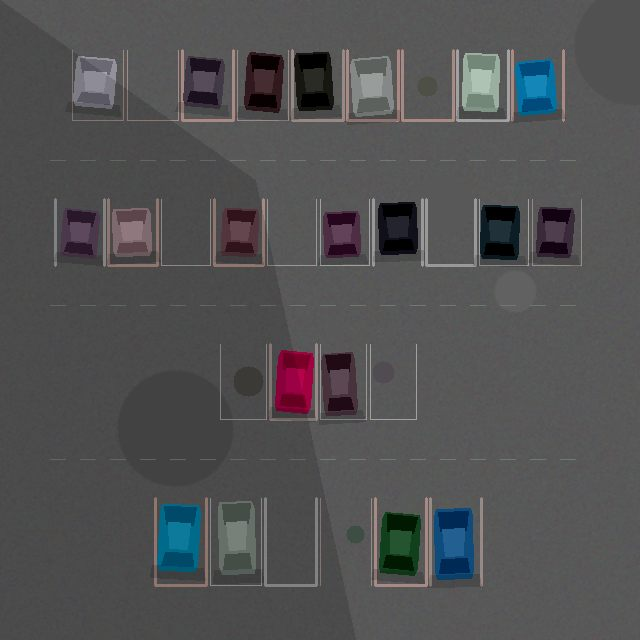space-empty: (265, 498, 316, 585), (320, 498, 371, 585), (127, 50, 178, 120), (402, 50, 453, 120), (220, 344, 266, 419), (370, 344, 416, 419), (161, 199, 210, 265), (267, 199, 316, 265), (426, 199, 475, 265)
space-occupied: (155, 498, 206, 585), (210, 498, 261, 585), (375, 498, 426, 585), (430, 498, 481, 585), (72, 50, 123, 120), (182, 50, 233, 120), (237, 50, 288, 120), (292, 50, 343, 120), (347, 50, 398, 120), (457, 50, 508, 120), (512, 50, 563, 120), (270, 344, 316, 419), (320, 344, 366, 419), (55, 199, 104, 265), (108, 199, 157, 265), (214, 199, 263, 265), (320, 199, 369, 265), (373, 199, 422, 265), (479, 199, 528, 265), (532, 199, 581, 265)
